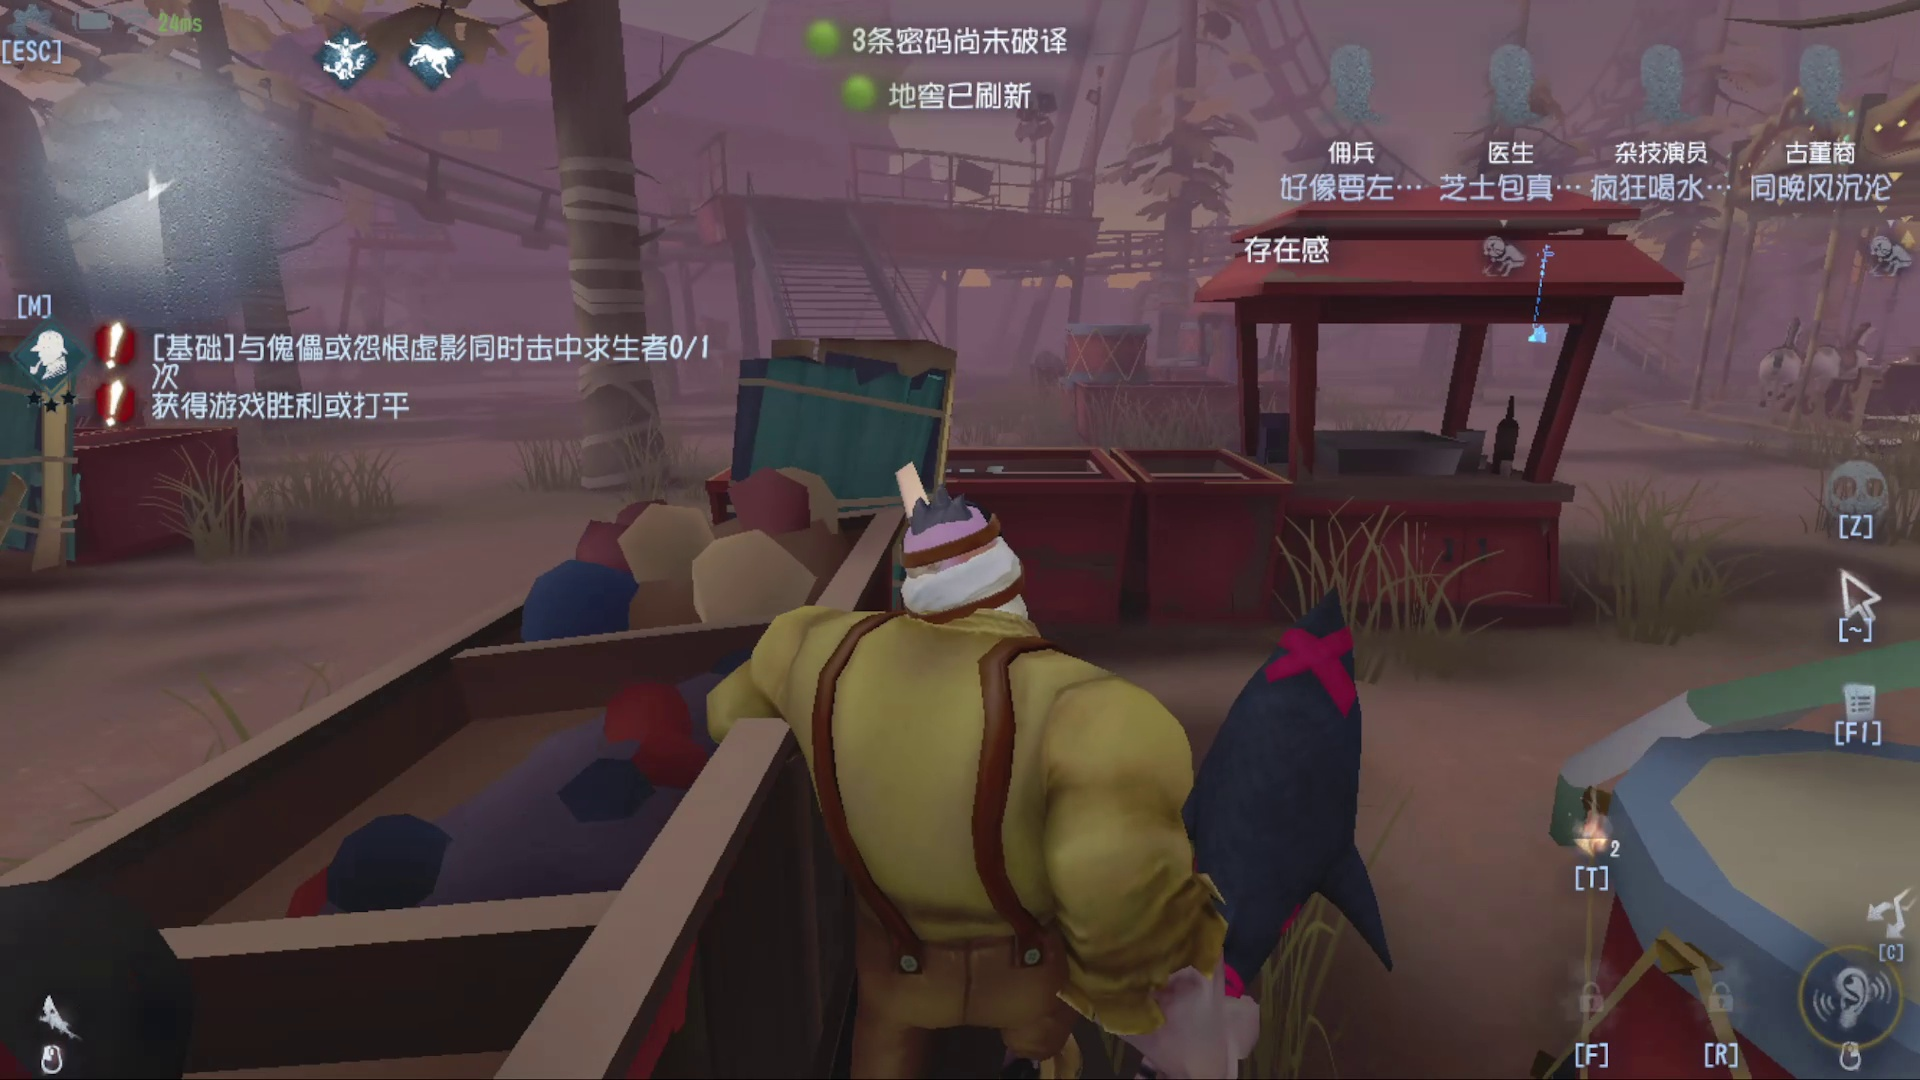密码机: (1516, 239, 1575, 356)
木板: (705, 328, 982, 510), (3, 330, 100, 575)
